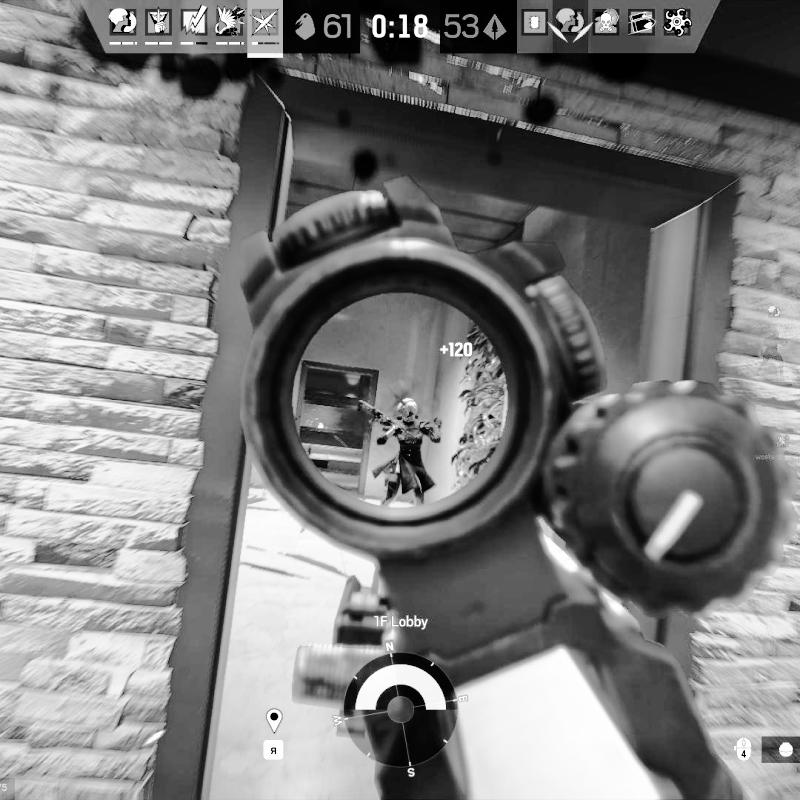Character: (358, 392, 444, 510)
Friend_label: (754, 432, 800, 462), (749, 305, 796, 331)
Head: (399, 395, 419, 423)
